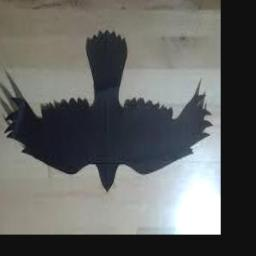Crow: (5, 31, 212, 193)
